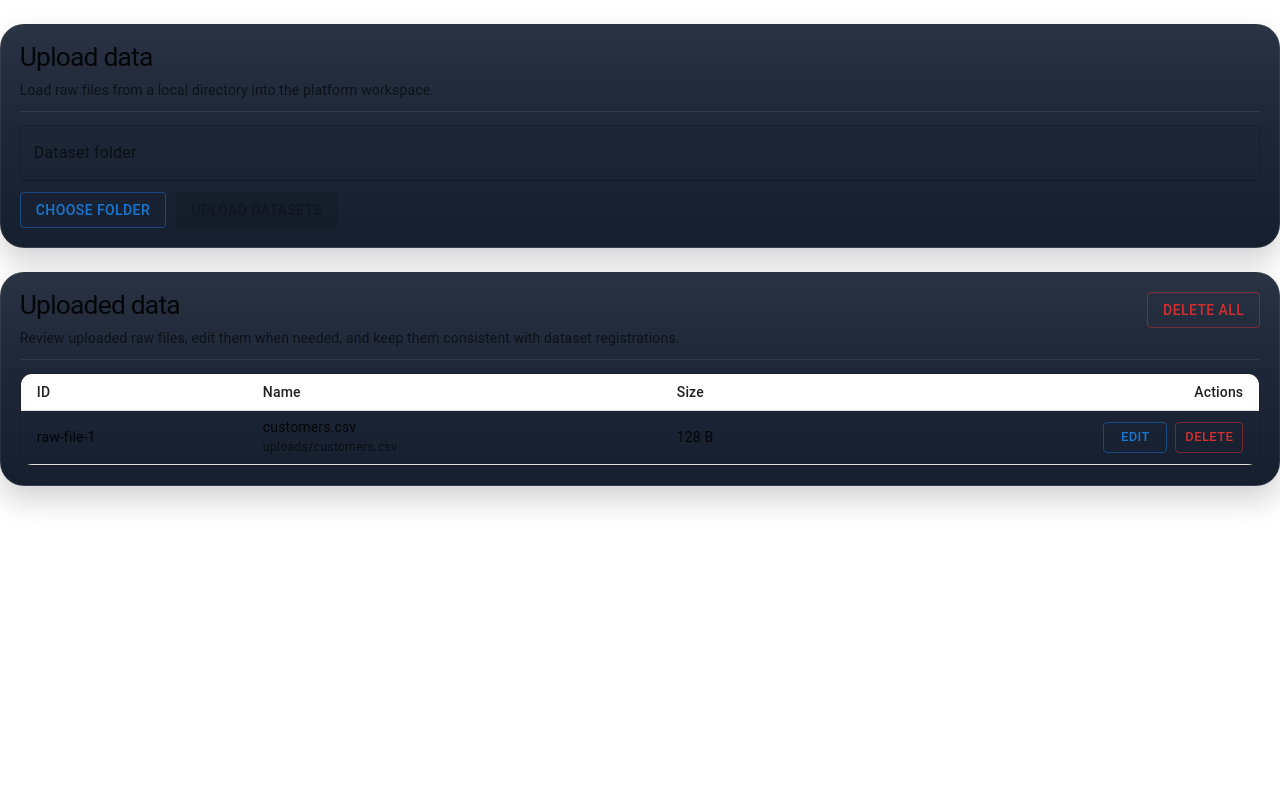
Test: DatasetsPage › deletes a single raw file from the uploaded data table
Click the button "Delete": (1209, 437) [1175,422,1243,453]
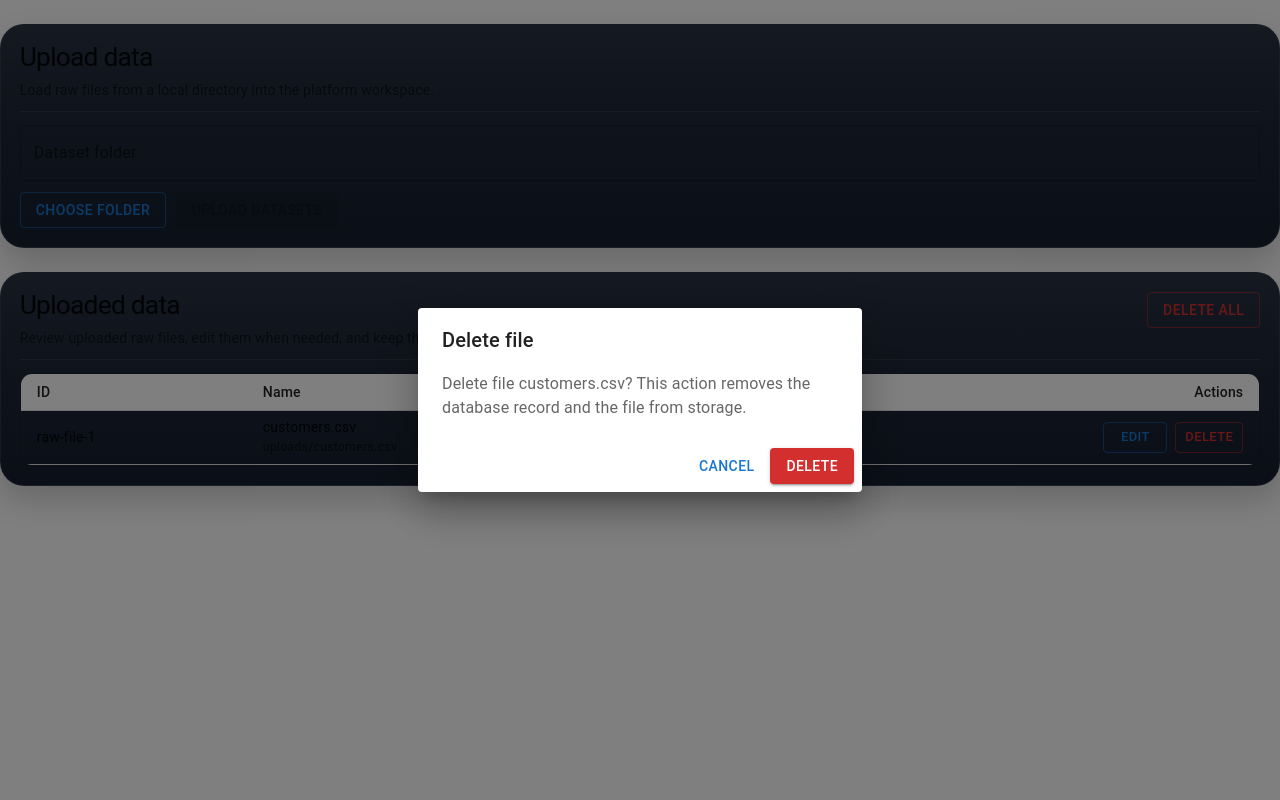
Click the button "Delete": (812, 466) [770,448,854,484]
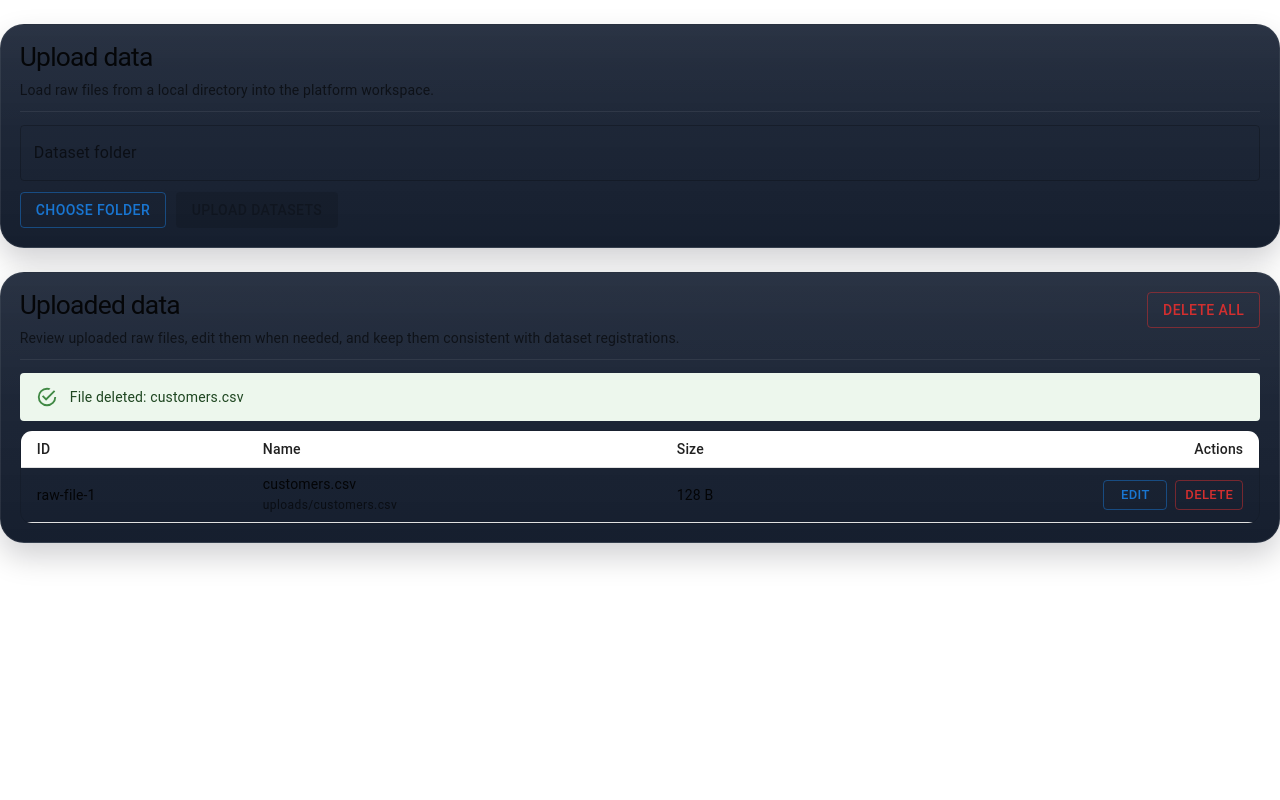
Now the text "File deleted: customers.csv" is shown, box [70,388,244,404]
